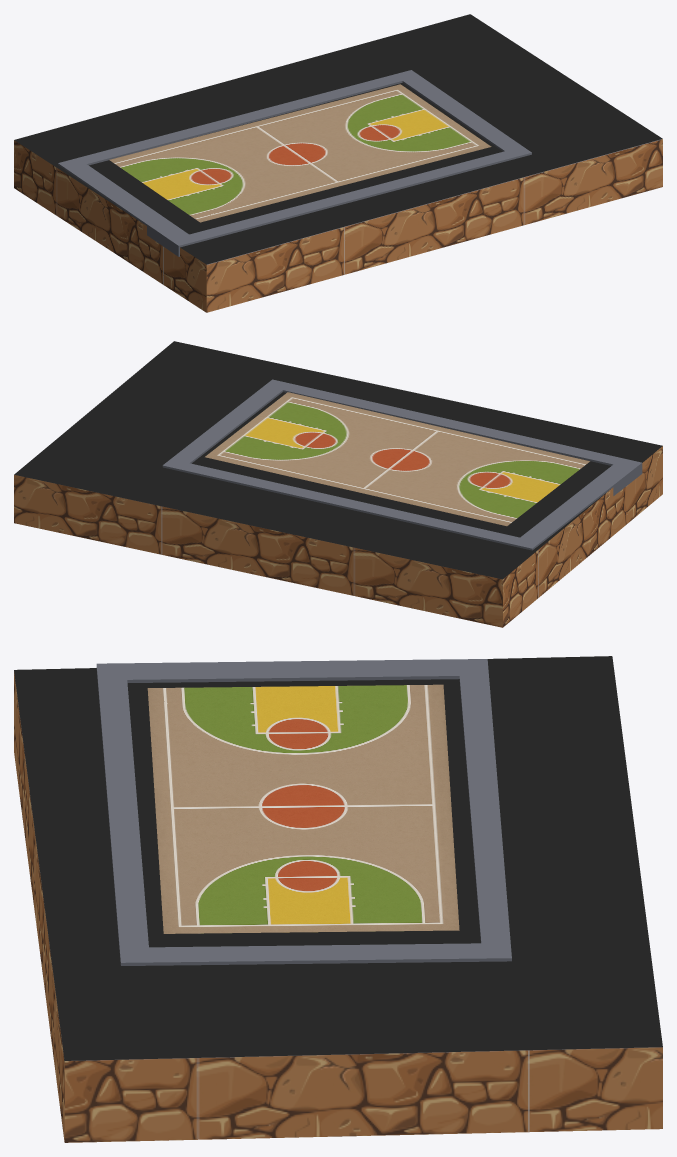
File: Basketball court.glb
The picture shows the model from 3 angles, top to bottom: view 1: azimuth 30°, elevation 25°; view 2: azimuth 150°, elevation 25°; view 3: azimuth 270°, elevation 25°; orthographic projection. The views are drawn at different scales.
Parts seen in each view (by area): view 1: polySurface1091, polySurface1096; view 2: polySurface1091, polySurface1096; view 3: polySurface1091, polySurface1096.
Boxes of the visible parts, x1=… form: polySurface1091: x1=14, y1=14, x2=662, y2=312; polySurface1096: x1=58, y1=70, x2=531, y2=256; polySurface1091: x1=14, y1=341, x2=662, y2=627; polySurface1096: x1=162, y1=379, x2=642, y2=550; polySurface1091: x1=14, y1=656, x2=662, y2=1142; polySurface1096: x1=96, y1=659, x2=511, y2=965.
Size of the model in its own units: 1.42 by 0.1485 by 0.9601.
4 materials, 2 textured.
